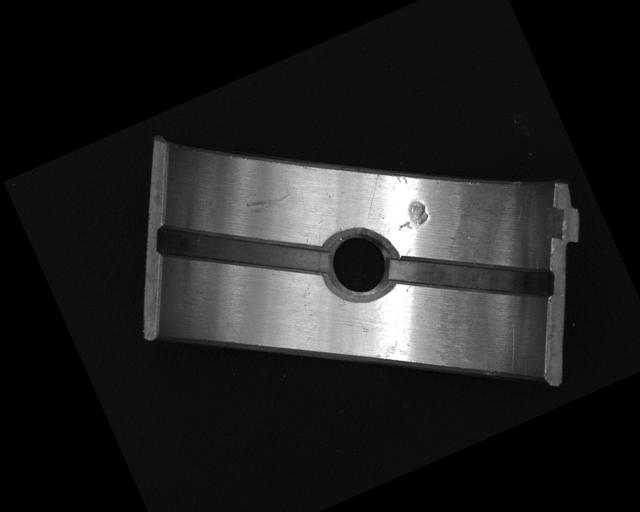bruise: (389, 196, 432, 235)
gap: (153, 171, 332, 328), (384, 203, 559, 349)
hole: (314, 217, 404, 311)
nick: (244, 182, 297, 219)
